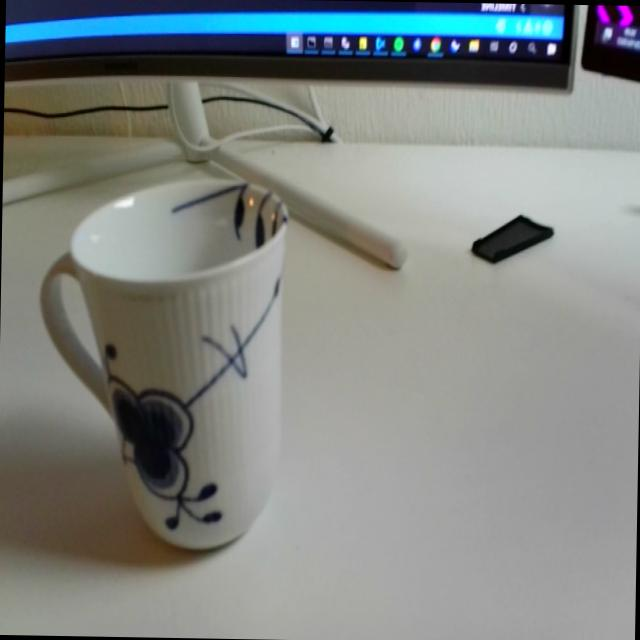Hand painted cup: (35, 165, 294, 562)
